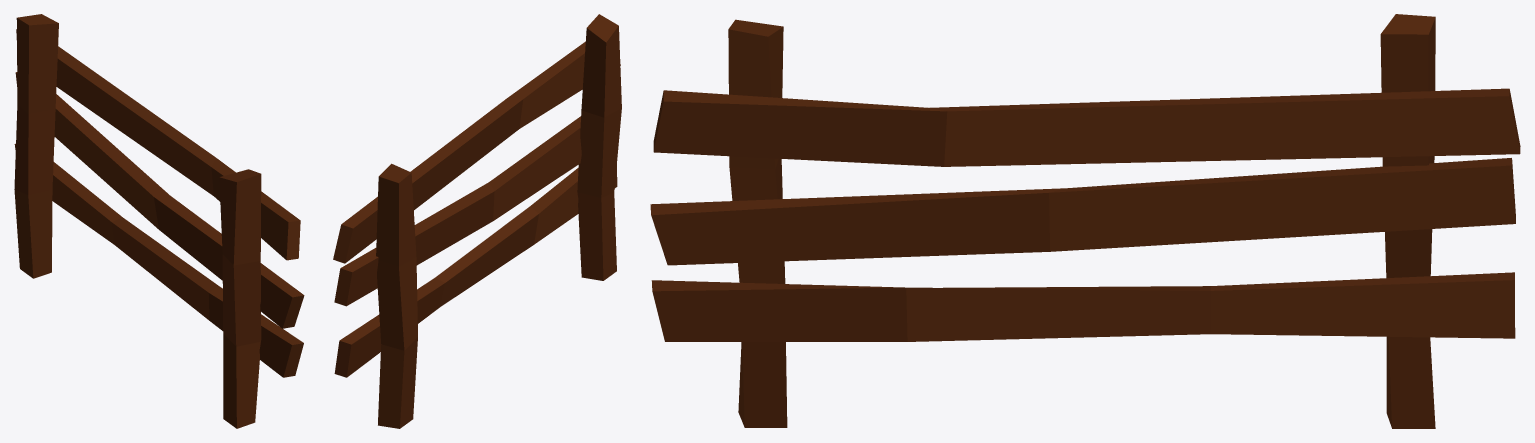
Rendered from fence_lowpoly 1.fbx.
3 views of the same model, side by side, from view 1: azimuth 30°, elevation 25°; view 2: azimuth 150°, elevation 25°; view 3: azimuth 270°, elevation 25° (orthographic). The views are drawn at different scales.
Visible parts, largest first — view 1: fence; view 2: fence; view 3: fence.
Boxes of the visible parts, x1,y1,x2,y2 form: fence: [14, 14, 304, 428]; fence: [333, 14, 621, 428]; fence: [650, 14, 1520, 428].
Bounding box in the file's own units: 44.18 × 204 × 402.
